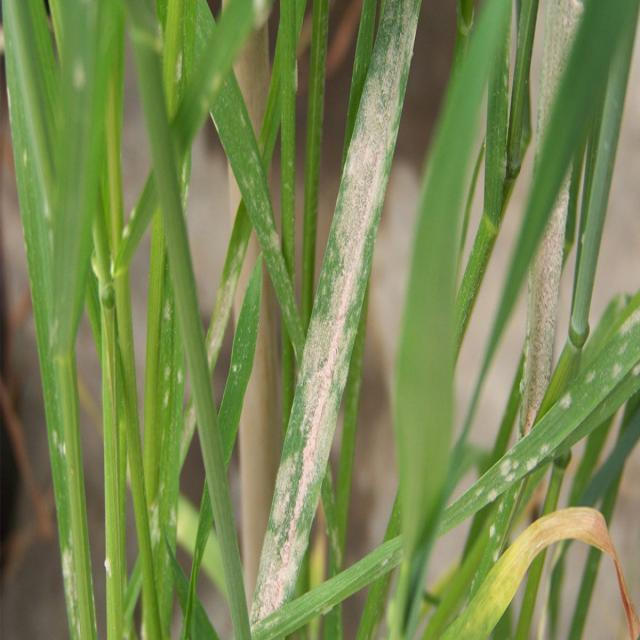wheat-powdery-mildew: (251, 0, 423, 624), (420, 291, 640, 640)
